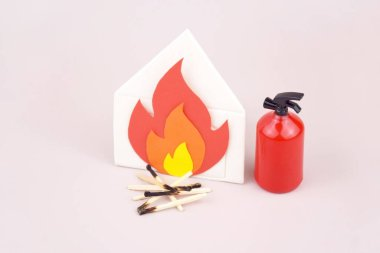fire: (134, 69, 229, 178)
